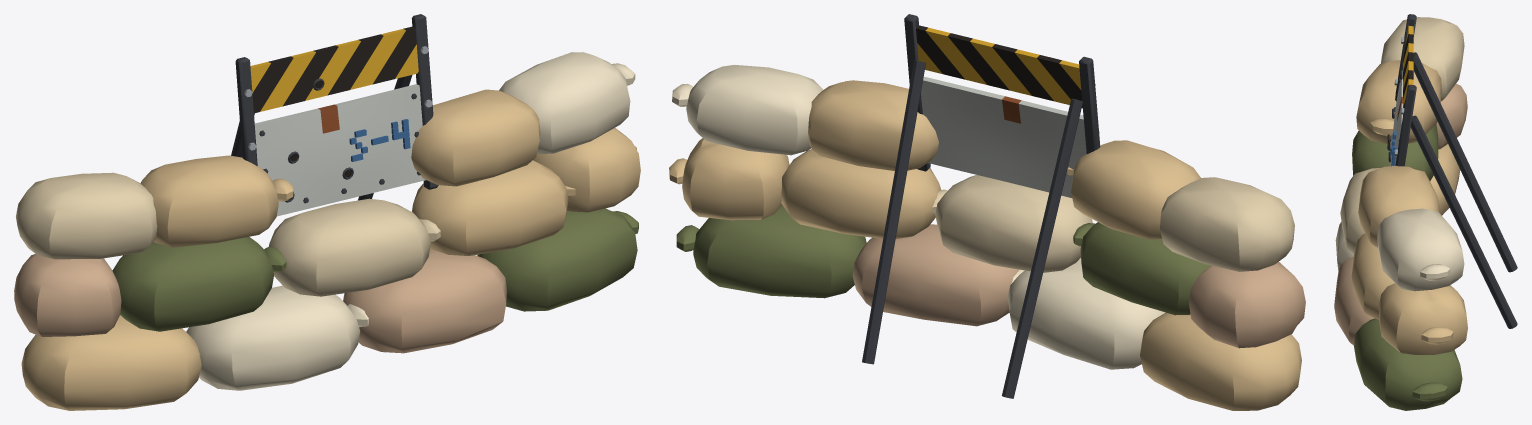
The model's file is deco_salvage_sandbag_wall.fbx.
3 views of the same model, side by side, from view 1: azimuth 30°, elevation 25°; view 2: azimuth 150°, elevation 25°; view 3: azimuth 270°, elevation 25° (orthographic). The views are drawn at different scales.
Parts seen in each view (by area): view 1: Salvage_SandbagWall_BagsMid, Salvage_SandbagWall_BagsLow, Salvage_SandbagWall_BagsTop, Salvage_SandbagWall_Shield; view 2: Salvage_SandbagWall_BagsMid, Salvage_SandbagWall_BagsLow, Salvage_SandbagWall_BagsTop, Salvage_SandbagWall_Shield; view 3: Salvage_SandbagWall_BagsTop, Salvage_SandbagWall_BagsMid, Salvage_SandbagWall_BagsLow, Salvage_SandbagWall_Shield.
Boxes of the visible parts, x1=… form: Salvage_SandbagWall_BagsMid: x1=14, y1=128, x2=640, y2=336; Salvage_SandbagWall_BagsLow: x1=21, y1=208, x2=638, y2=410; Salvage_SandbagWall_BagsTop: x1=16, y1=52, x2=635, y2=259; Salvage_SandbagWall_Shield: x1=231, y1=14, x2=438, y2=216; Salvage_SandbagWall_BagsMid: x1=669, y1=138, x2=1305, y2=348; Salvage_SandbagWall_BagsLow: x1=676, y1=205, x2=1301, y2=410; Salvage_SandbagWall_BagsTop: x1=672, y1=65, x2=1294, y2=271; Salvage_SandbagWall_Shield: x1=862, y1=14, x2=1100, y2=398; Salvage_SandbagWall_BagsTop: x1=1356, y1=17, x2=1464, y2=291; Salvage_SandbagWall_BagsMid: x1=1340, y1=83, x2=1467, y2=354; Salvage_SandbagWall_BagsLow: x1=1334, y1=144, x2=1462, y2=410; Salvage_SandbagWall_Shield: x1=1387, y1=14, x2=1517, y2=328.
Size of the model in its own units: 331 by 155 by 103.
